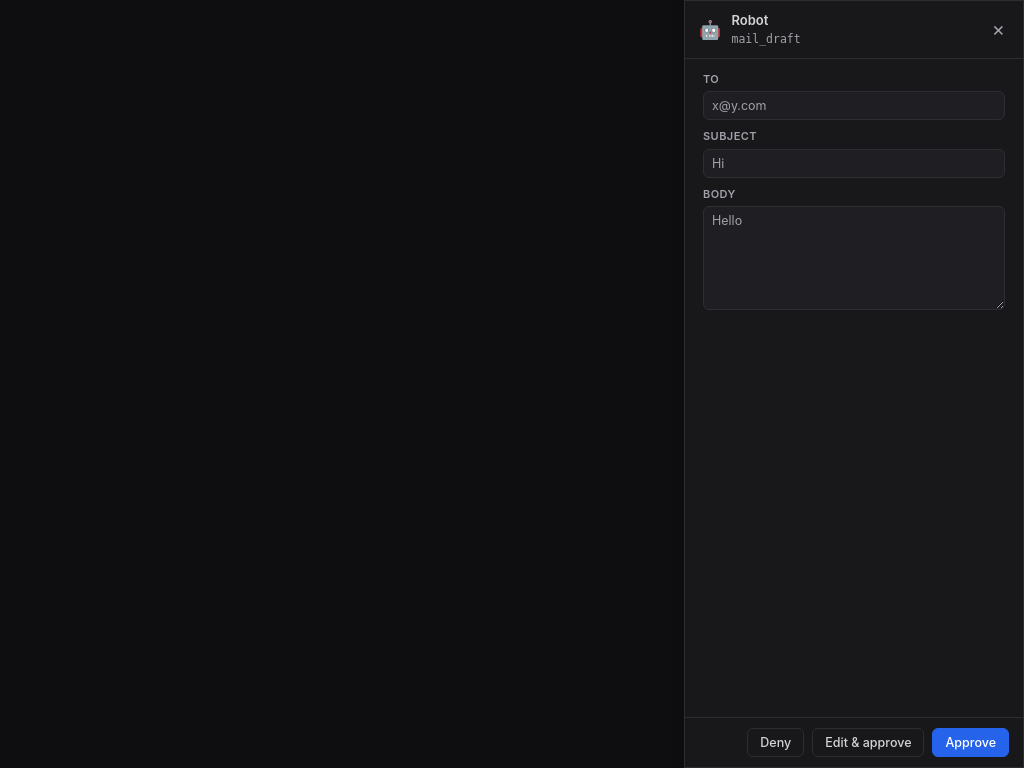
Test: ApprovalSheet › shows an error message when approvalDecide fails
The width and height of the screenshot is (1024, 768).
Click the button with test id "approval-sheet-deny" at (776, 742), box [747,728,804,757]
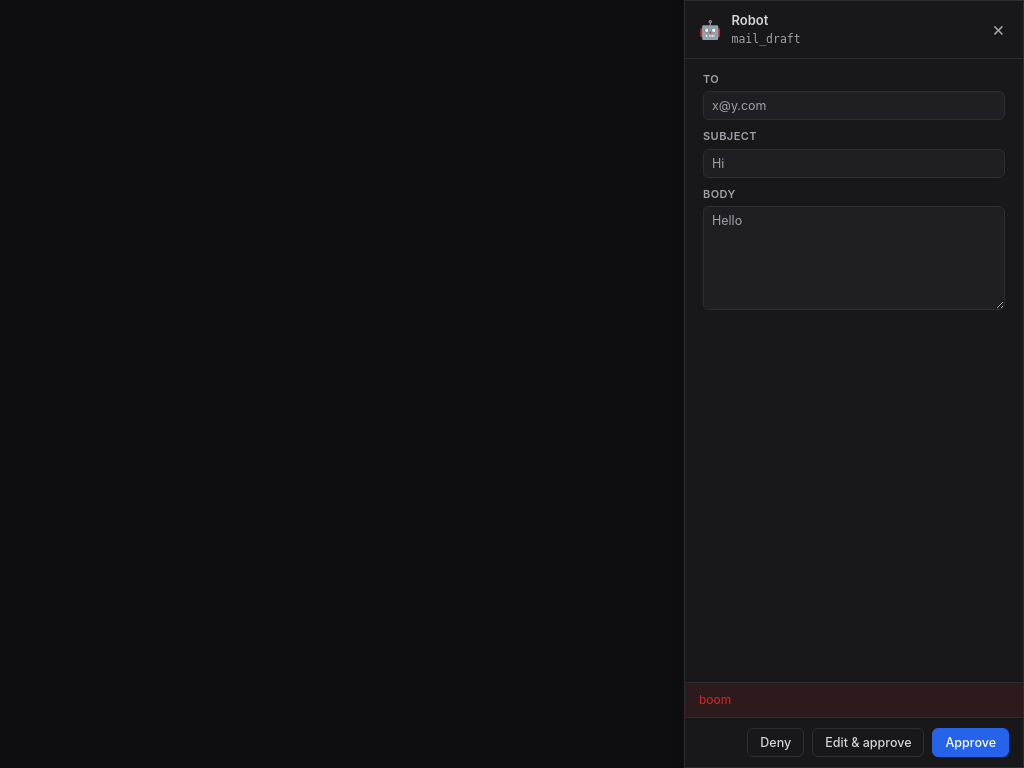
Result: the text with test id "approval-sheet-error" reads "boom" at [699,692,731,707]
